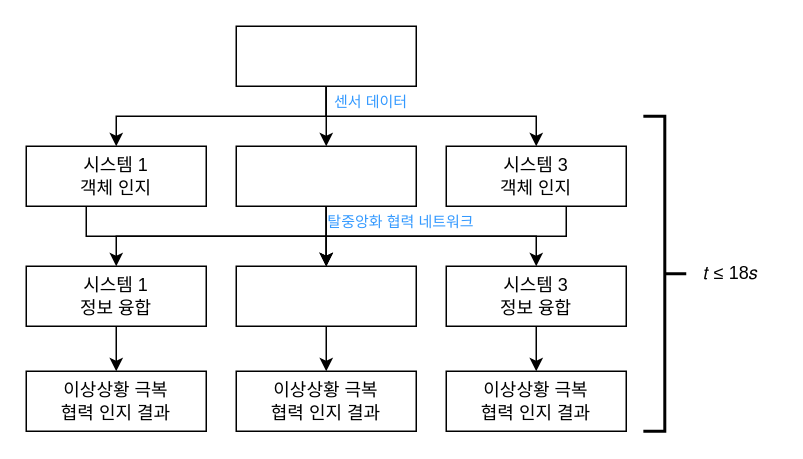
The diagram is 803 pixels wide and 459 high, and some of its shapes have lost their labels. Here are the shapes that lost their labels. From the top down, the box of each, then its label:
(235, 25, 416, 86): 시나리오 생성 (Carla+Scenic+UE)
(235, 145, 416, 206): 시스템 2 객체 인지
(235, 265, 416, 326): 시스템 2 정보 융합
